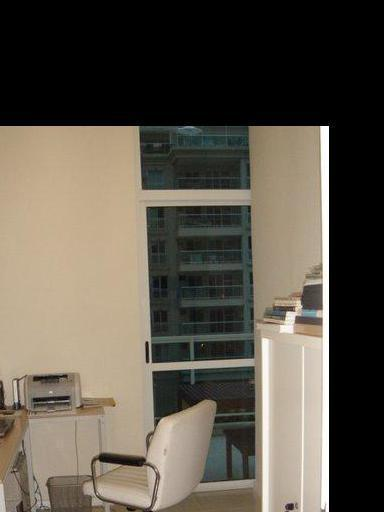Armario: (264, 326, 321, 512)
